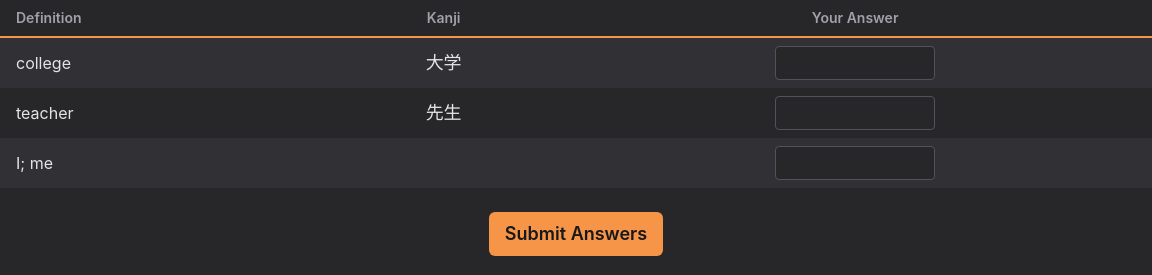
it: VocabWriteInQuiz › grades kana answers, accepting whitespace-trimmed correct readings and flagging wrong ones
The image size is (1152, 275).
Type "だいがく" into the field named "だいがく" in the row of "college" at (855, 63), box [775,46,935,80]
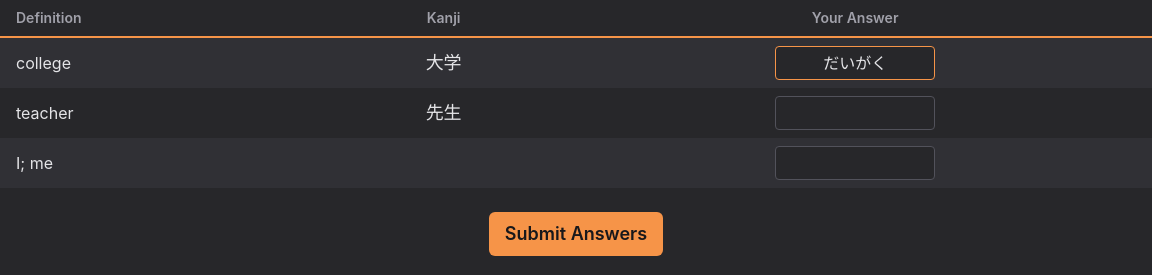
Type "wrong" into the field named "せんせい" in the row of "teacher" at (855, 113), box [775,96,935,130]
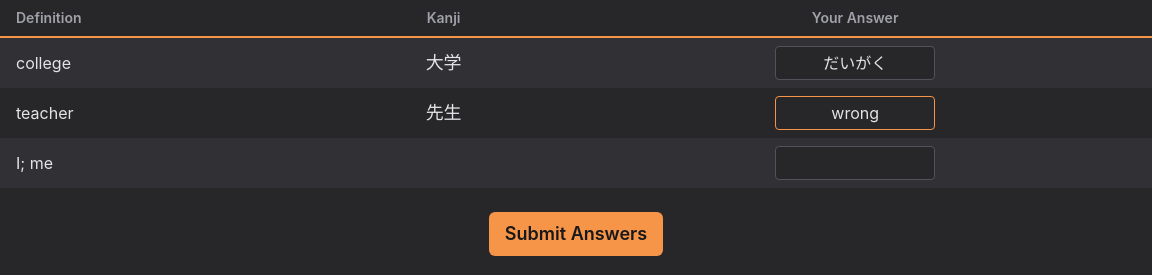
Type " わたし " into the field named "わたし" in the row of "I; me" at (855, 163), box [775,146,935,180]
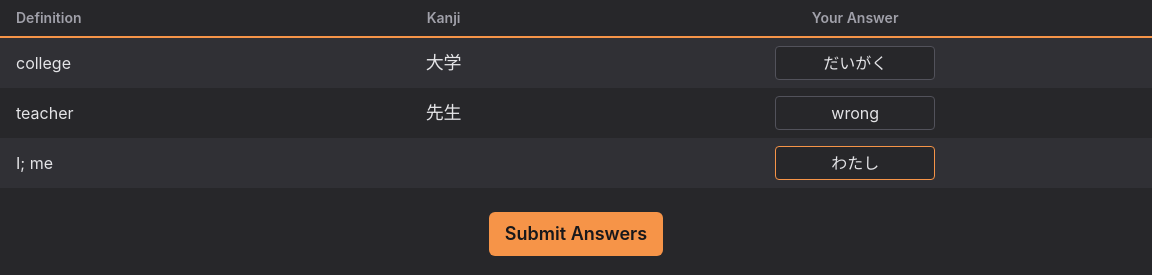
Click the button "Submit Answers" at (576, 234), box [489,212,663,256]
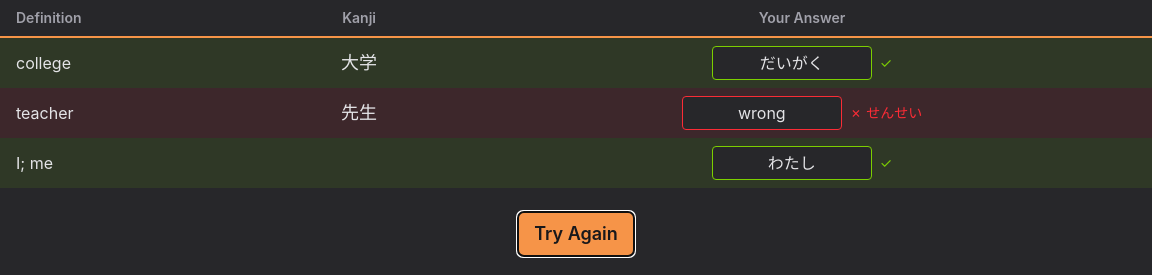
Result: the text "✓" is shown 2 times at [880,53,892,73]; [880,153,892,173]
Result: the text "✗ せんせい" is shown at [850,103,922,123]
